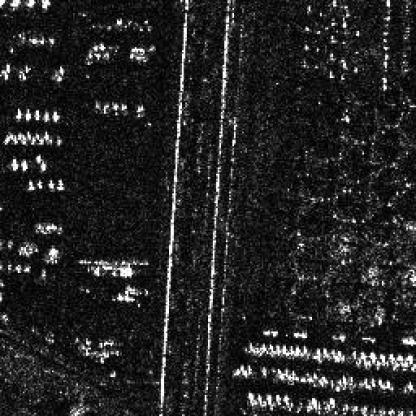airplane: (57, 169, 63, 190), (10, 156, 18, 169), (26, 180, 36, 190), (52, 110, 60, 122), (42, 112, 51, 122), (13, 109, 21, 119), (24, 109, 31, 120), (34, 110, 41, 121), (39, 162, 47, 171), (42, 130, 49, 140), (47, 178, 54, 188), (34, 153, 42, 161), (24, 130, 31, 138), (36, 180, 42, 188), (29, 136, 34, 145), (3, 135, 8, 143), (8, 132, 13, 140), (34, 132, 39, 140), (38, 138, 43, 145), (55, 138, 60, 145), (13, 135, 18, 141), (16, 132, 21, 138), (21, 137, 26, 143)
